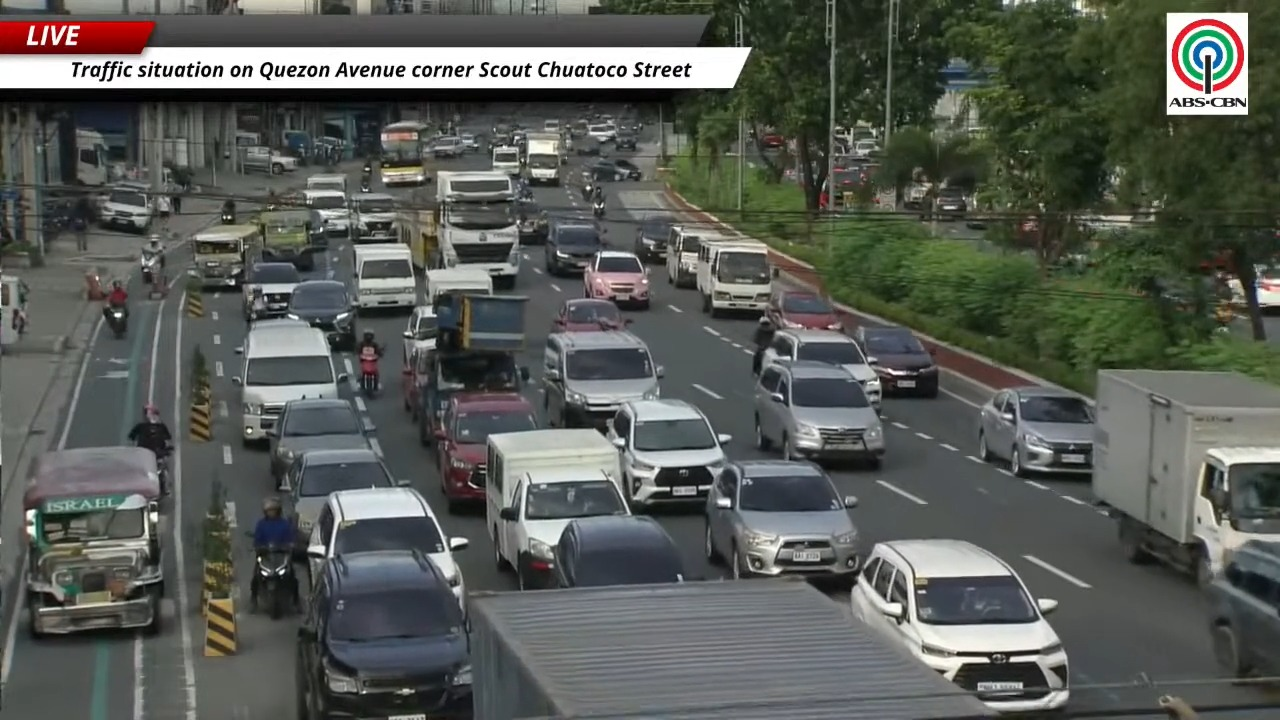bus: (379, 121, 433, 186)
car: (852, 539, 1069, 714), (295, 550, 472, 719), (307, 487, 468, 612), (704, 460, 858, 579), (499, 469, 629, 589), (753, 361, 884, 467), (607, 399, 731, 506), (282, 448, 406, 554), (435, 392, 537, 512), (543, 331, 663, 430), (978, 386, 1095, 476), (1205, 540, 1279, 678), (551, 515, 691, 587), (761, 329, 881, 408), (268, 398, 371, 486), (854, 326, 938, 397), (286, 280, 357, 349), (583, 250, 650, 308), (544, 219, 605, 275), (243, 262, 301, 320), (765, 290, 842, 330), (550, 298, 629, 332), (350, 192, 396, 242), (402, 306, 438, 367), (302, 190, 350, 235), (633, 215, 674, 262), (517, 198, 548, 244), (583, 158, 641, 181), (927, 188, 967, 219), (430, 136, 466, 158), (613, 158, 642, 180), (587, 121, 616, 142), (575, 135, 601, 155), (615, 129, 637, 150), (852, 140, 879, 157), (760, 131, 785, 148), (459, 133, 479, 151)
motorcycle: (253, 545, 295, 619), (358, 349, 379, 398), (154, 446, 170, 495), (104, 305, 125, 338), (140, 252, 159, 285), (592, 199, 605, 219), (582, 181, 593, 200), (221, 211, 235, 224), (360, 177, 370, 192)
truck: (468, 578, 995, 719), (1091, 369, 1279, 585), (486, 428, 623, 586), (415, 290, 528, 444), (435, 171, 520, 289), (696, 237, 772, 317), (38, 117, 114, 189), (394, 192, 442, 271), (524, 132, 561, 185)
